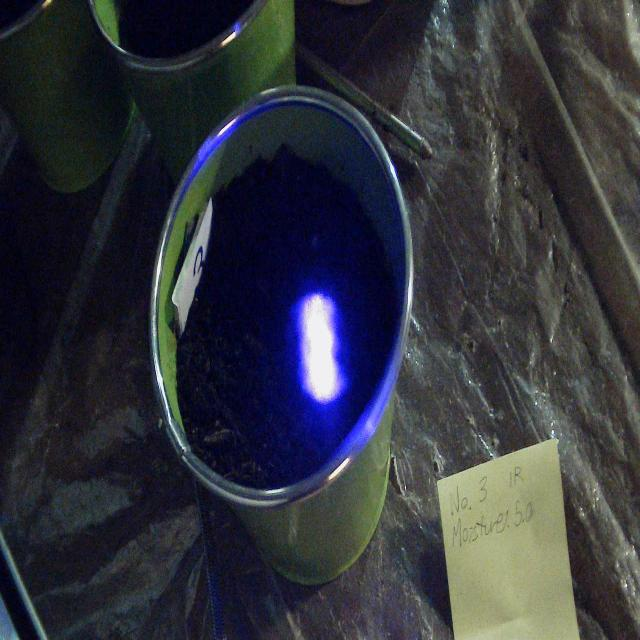soil-moisture-5.0: (293, 292, 348, 402)
